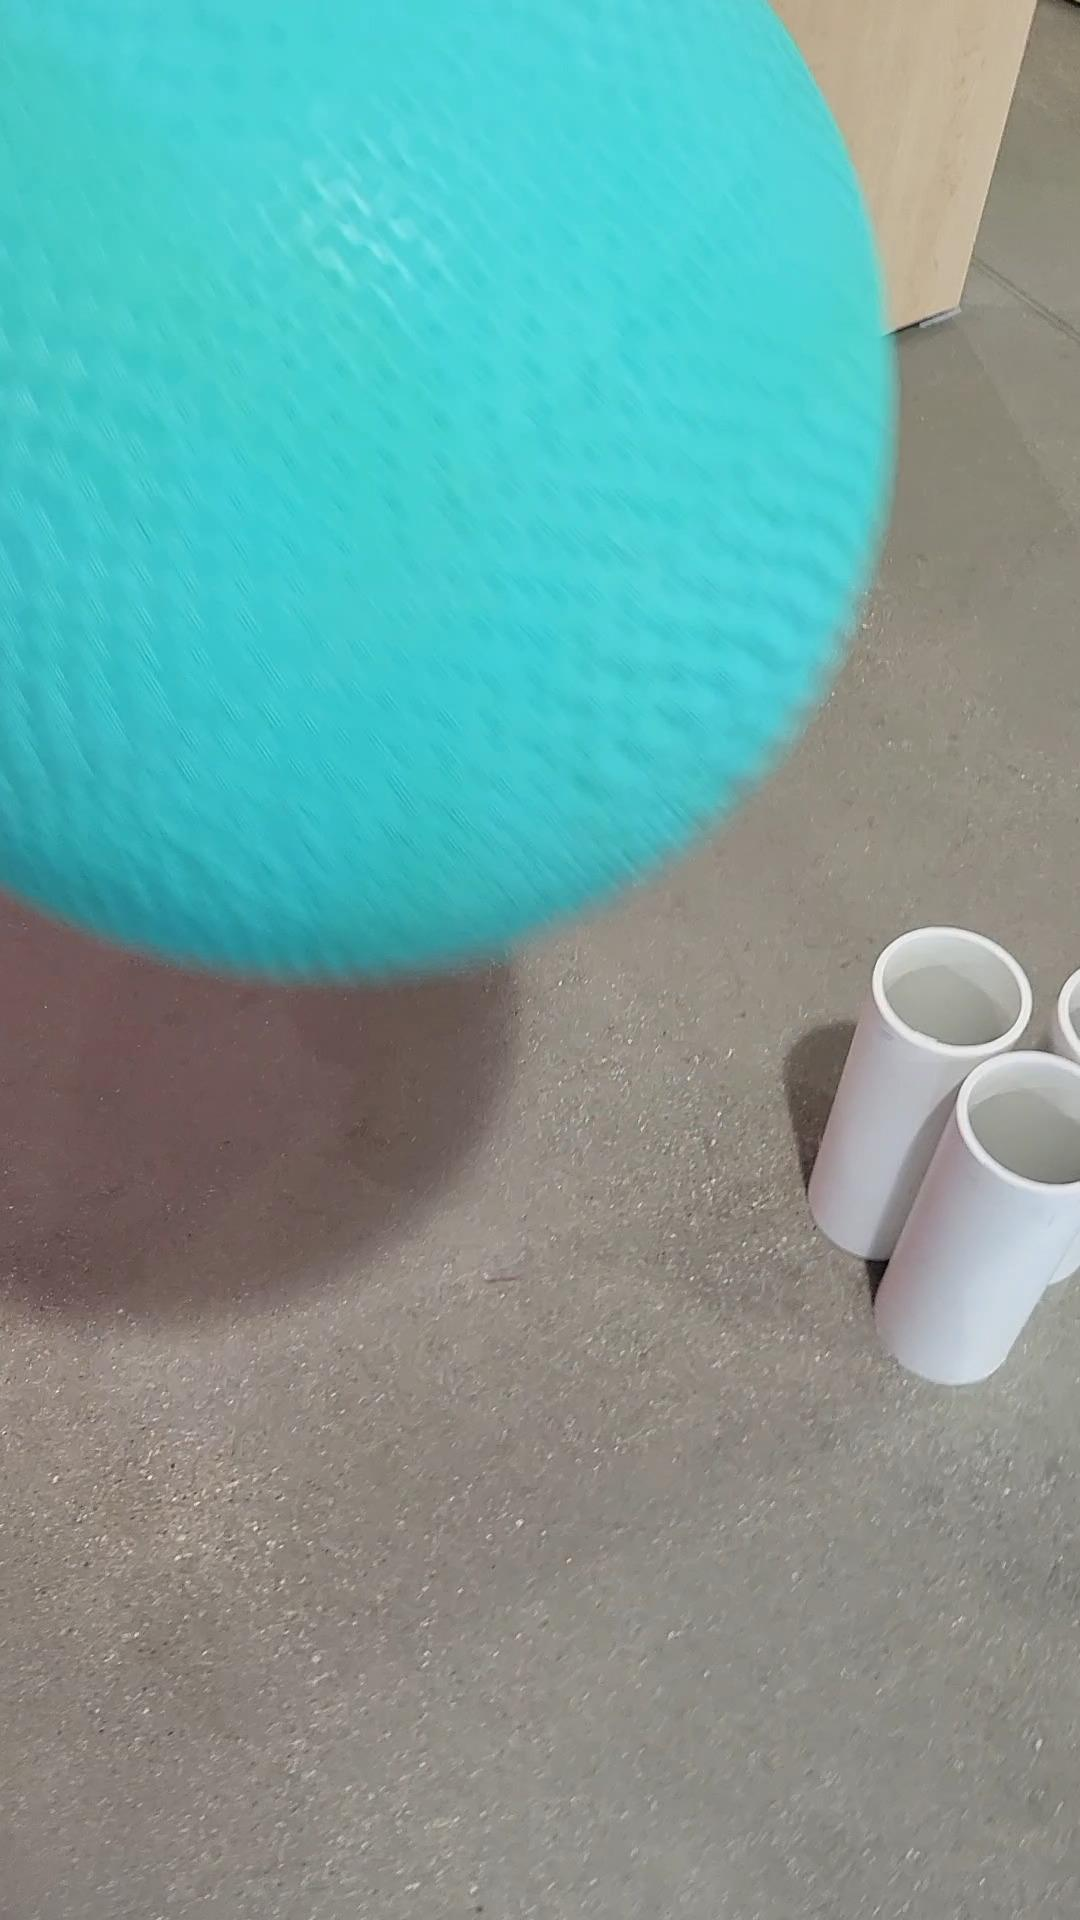algae: (0, 0, 884, 961)
coral: (815, 930, 1031, 1270), (881, 1059, 1080, 1386), (1042, 957, 1080, 1058)
